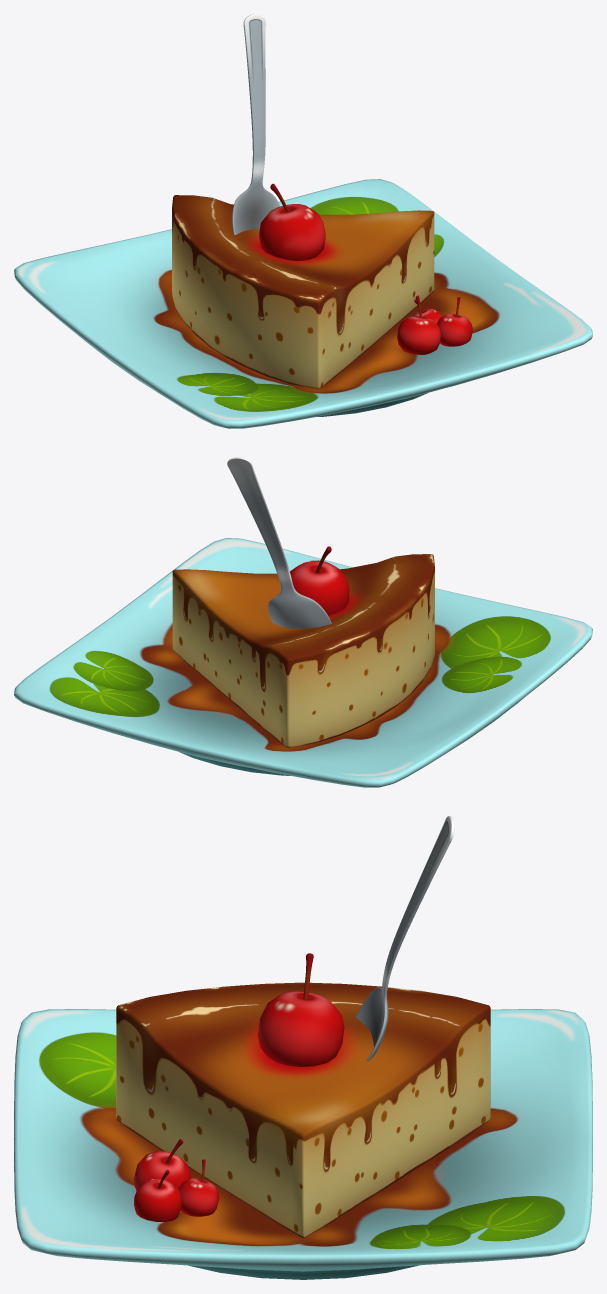
The model's file is quesillo.fbx.
The picture shows the model from 3 angles, top to bottom: view 1: azimuth 30°, elevation 25°; view 2: azimuth 150°, elevation 25°; view 3: azimuth 270°, elevation 25°; orthographic projection. The views are drawn at different scales.
Visible parts, largest first — view 1: Mesh_Quesillo_Plate, Mesh_Quesillo_Cake, Mesh_Quesillo_Caramel, Mesh_Quesillo_Spoon; view 2: Mesh_Quesillo_Plate, Mesh_Quesillo_Cake, Mesh_Quesillo_Spoon, Mesh_Quesillo_Caramel; view 3: Mesh_Quesillo_Plate, Mesh_Quesillo_Cake, Mesh_Quesillo_Caramel, Mesh_Quesillo_Spoon.
Boxes of the visible parts, box(x1,y1,x2,y2) form: Mesh_Quesillo_Plate: box(14, 179, 592, 428); Mesh_Quesillo_Cake: box(172, 195, 434, 388); Mesh_Quesillo_Caramel: box(259, 204, 472, 354); Mesh_Quesillo_Spoon: box(232, 14, 279, 234); Mesh_Quesillo_Plate: box(14, 538, 592, 787); Mesh_Quesillo_Cake: box(172, 554, 434, 747); Mesh_Quesillo_Spoon: box(227, 457, 331, 628); Mesh_Quesillo_Caramel: box(290, 560, 349, 615); Mesh_Quesillo_Plate: box(14, 1009, 592, 1279); Mesh_Quesillo_Cake: box(116, 982, 490, 1237); Mesh_Quesillo_Caramel: box(133, 991, 344, 1221); Mesh_Quesillo_Spoon: box(355, 816, 454, 1061).
Size of the model in its own units: 166 by 120 by 166.
2 materials, 2 textured.
